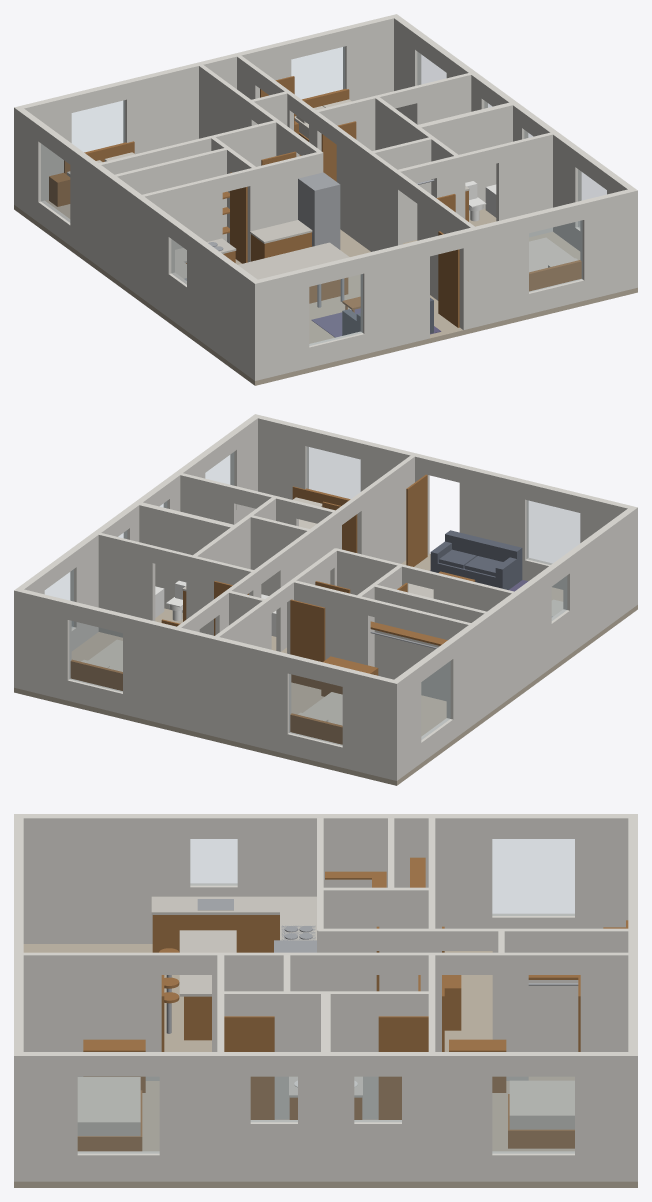
Rendered from adu-1188.glb.
3 views of the same model, one above another, from view 1: azimuth 30°, elevation 25°; view 2: azimuth 150°, elevation 25°; view 3: azimuth 270°, elevation 25° (orthographic). The views are drawn at different scales.
Parts seen in each view (by area): view 1: wall_west_2, wall_west_4, wall_north_2, wall_south_4, wall_south_2, floor_slab, wall_hall_east_6, wall_south_6, wall_south_0, wall_bath1_south_2, wall_kitchen_north_2, wall_north_4 (+60 smaller); view 2: wall_north_2, wall_west_2, wall_west_4, floor_slab, wall_north_4, wall_north_0, wall_south_2, wall_closet3_south_0, wall_bed2_south_2, wall_hall_east_8, wall_bath_between_0, wall_bed3_south_2 (+56 smaller); view 3: wall_west_4, wall_west_2, wall_hall_east_8, floor_slab, wall_east_6, wall_east_2, wall_bath3_east_0, wall_east_8, wall_east_0, wall_east_4, wall_hall_west_0, wall_west_glass1 (+47 smaller).
Part boxes in pixels (x1,y1,x2,y2): wall_west_2: [70, 147, 174, 317]; wall_west_4: [187, 232, 261, 380]; wall_north_2: [123, 40, 291, 154]; wall_south_4: [459, 214, 528, 330]; wall_south_2: [360, 238, 429, 354]; floor_slab: [14, 199, 637, 385]; wall_hall_east_6: [336, 128, 402, 251]; wall_south_6: [580, 189, 631, 300]; wall_south_0: [258, 268, 309, 379]; wall_bath1_south_2: [496, 132, 552, 237]; wall_kitchen_north_2: [247, 151, 322, 262]; wall_north_4: [343, 15, 393, 101]; wall_north_2: [123, 614, 291, 754]; wall_west_2: [446, 569, 551, 739]; wall_west_4: [563, 506, 637, 653]; floor_slab: [14, 554, 637, 785]; wall_north_4: [20, 589, 71, 700]; wall_north_0: [342, 668, 393, 779]; wall_south_2: [459, 465, 528, 580]; wall_closet3_south_0: [372, 584, 486, 701]; wall_bed2_south_2: [98, 533, 155, 637]; wall_hall_east_8: [357, 455, 414, 563]; wall_bath_between_0: [139, 502, 236, 612]; wall_bed3_south_2: [291, 580, 370, 665]; wall_west_4: [14, 814, 190, 943]; wall_west_2: [237, 814, 492, 928]; wall_hall_east_8: [23, 952, 161, 1080]; floor_slab: [14, 944, 637, 1187]; wall_east_6: [159, 1052, 250, 1181]; wall_east_2: [402, 1052, 492, 1181]; wall_bath3_east_0: [218, 991, 430, 1119]; wall_east_8: [14, 1052, 77, 1181]; wall_east_0: [575, 1052, 637, 1181]; wall_east_4: [298, 1052, 354, 1181]; wall_hall_west_0: [492, 928, 628, 1051]; wall_west_glass1: [492, 839, 574, 915].
Bounding box in the file's own units: 10.06 × 2.56 × 10.97.
